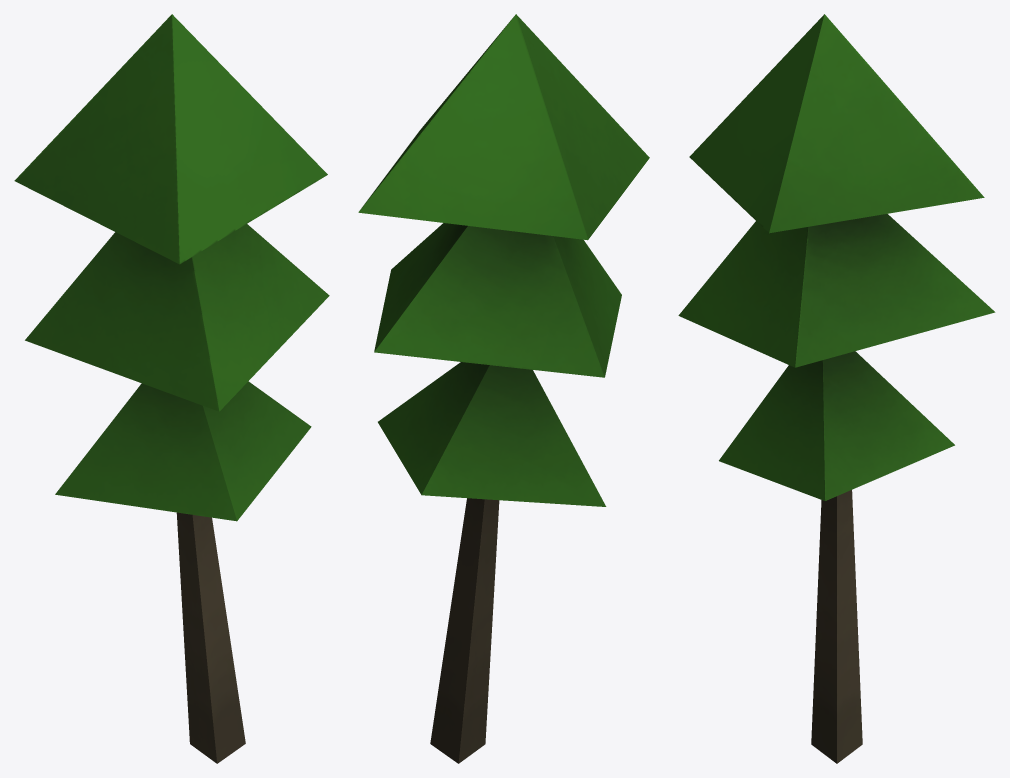
Rendered from Bush_tree_02.FBX.
The picture shows the model from 3 angles, left to right: view 1: azimuth 30°, elevation 25°; view 2: azimuth 150°, elevation 25°; view 3: azimuth 270°, elevation 25°; orthographic projection. The views are drawn at different scales.
Visible parts, largest first — view 1: Bush_tree_02; view 2: Bush_tree_02; view 3: Bush_tree_02.
Boxes of the visible parts, x1,y1,x2,y2 form: Bush_tree_02: [14, 14, 329, 763]; Bush_tree_02: [358, 14, 649, 763]; Bush_tree_02: [678, 14, 995, 763].
Bounding box in the file's own units: 14.41 × 16.06 × 39.83.
